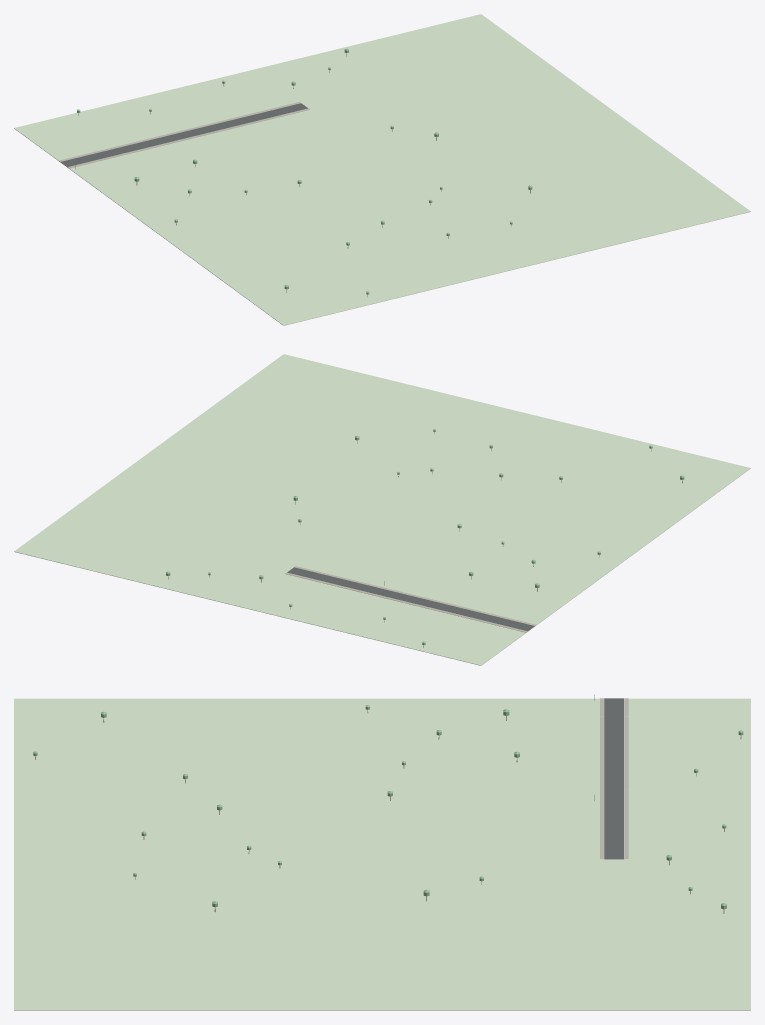
File: chunk_7_4_low.glb
3 renders of one model, top to bottom at view 1: azimuth 30°, elevation 25°; view 2: azimuth 150°, elevation 25°; view 3: azimuth 270°, elevation 25°, orthographic. The views are drawn at different scales.
Parts seen in each view (by area): view 1: city_grass, city_world_asphalt, city_world_sidewalk; view 2: city_grass, city_world_asphalt, city_world_sidewalk; view 3: city_grass, city_world_asphalt, city_world_sidewalk, city_foliage_dark.
Boxes of the visible parts, x1,y1,x2,y2 form: city_grass: [14, 14, 750, 325]; city_world_asphalt: [61, 103, 307, 166]; city_world_sidewalk: [59, 102, 309, 168]; city_grass: [14, 354, 750, 665]; city_world_asphalt: [287, 567, 534, 631]; city_world_sidewalk: [285, 566, 536, 632]; city_grass: [14, 698, 750, 1010]; city_world_asphalt: [604, 698, 623, 859]; city_world_sidewalk: [600, 698, 628, 858]; city_foliage_dark: [33, 705, 743, 909].
Size of the model in its own units: 512 by 9.36 by 512.
